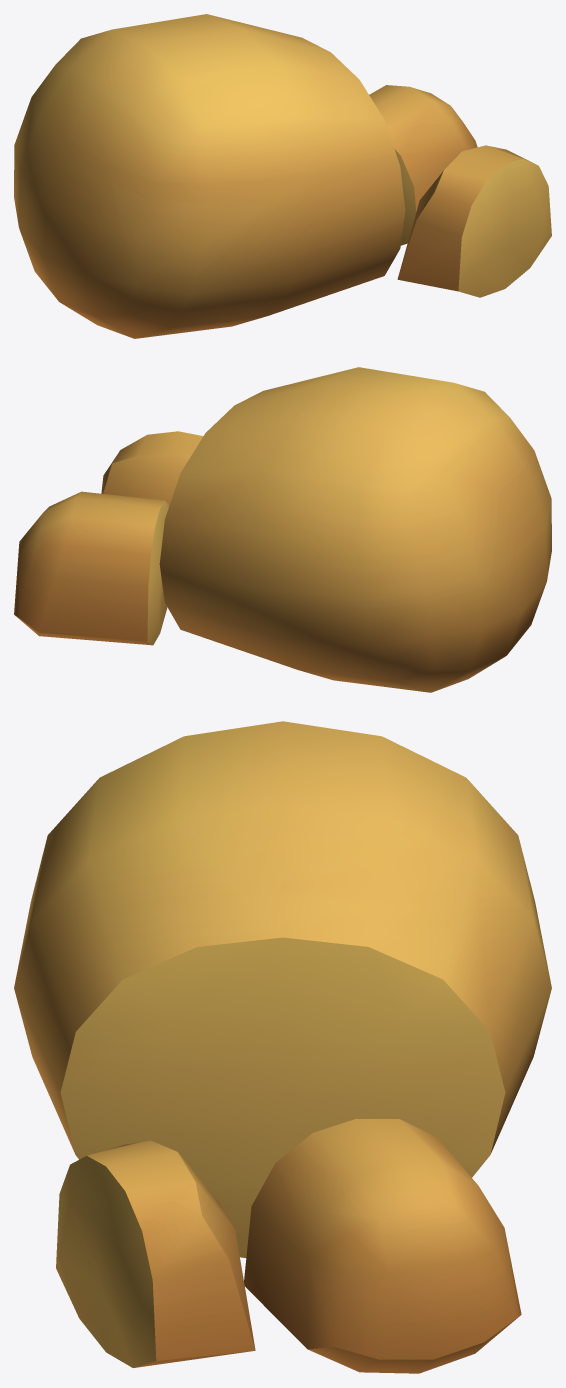
The model's file is kaykit-restaurant-bits-food-ingredient-potato-chopped.glb.
3 views of the same model, one above another, from view 1: azimuth 30°, elevation 25°; view 2: azimuth 150°, elevation 25°; view 3: azimuth 270°, elevation 25° (orthographic). The views are drawn at different scales.
Visible parts, largest first — view 1: food_ingredient_potato_chopped; view 2: food_ingredient_potato_chopped; view 3: food_ingredient_potato_chopped.
Boxes of the visible parts, x1,y1,x2,y2 form: food_ingredient_potato_chopped: (14, 14, 551, 338); food_ingredient_potato_chopped: (14, 367, 551, 692); food_ingredient_potato_chopped: (14, 721, 551, 1373).
Size of the model in its own units: 1.05 by 0.6 by 0.7.
Materials: 1 (1 with a texture image).
